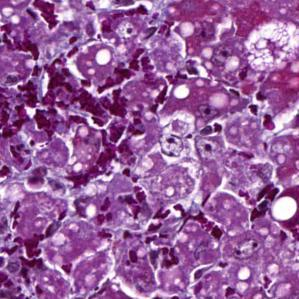ballooning: (238, 18, 297, 76)
